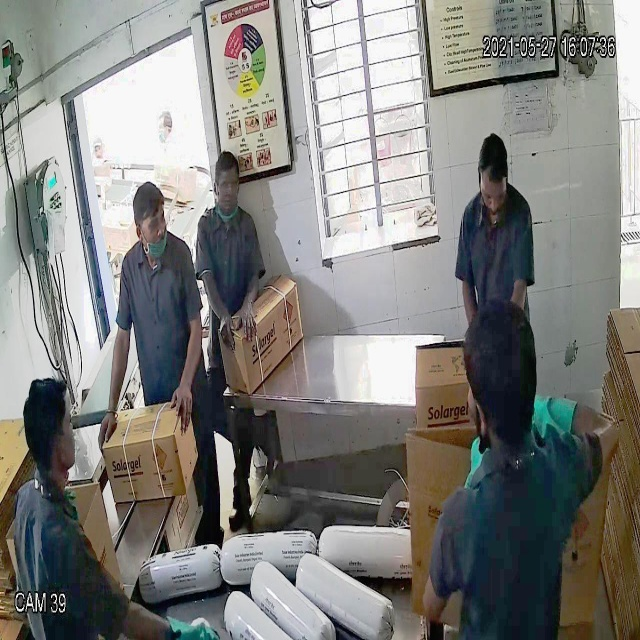Sin_gafas: (131, 209, 174, 245)
